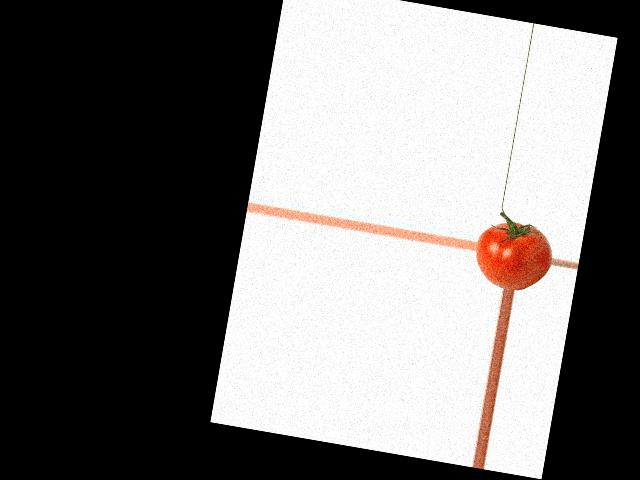tomato: (470, 216, 557, 294)
